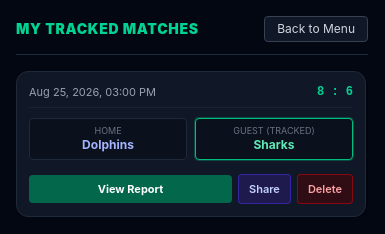
Test case: MyMatchesView Component › should handle uncatch/delete action using trackedTeamId and update list
Check: the text "Dolphins" is shown, box x1=82 y1=136 x2=134 y2=152
What coordinates should you click on to do the following:
click the button "Delete"
I would click on:
 (325, 189)
Its box is x1=297 y1=174 x2=353 y2=204.
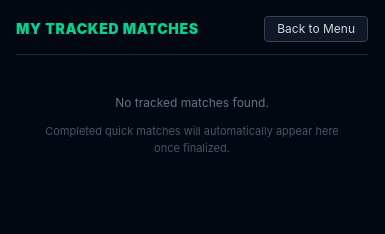
Check: the text "Dolphins" is gone
